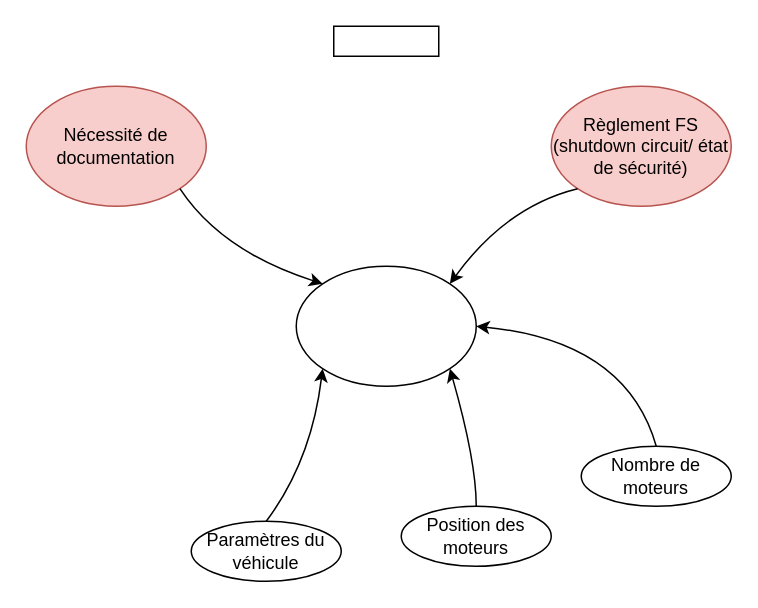
This 758x608 diagram has some shape labels left out. Here are the shapes that lost their labels. From the top down, the centre of each, then its label:
the point at 385,40: Conception
the point at 385,325: Algorithme de commande multi-moteurs
